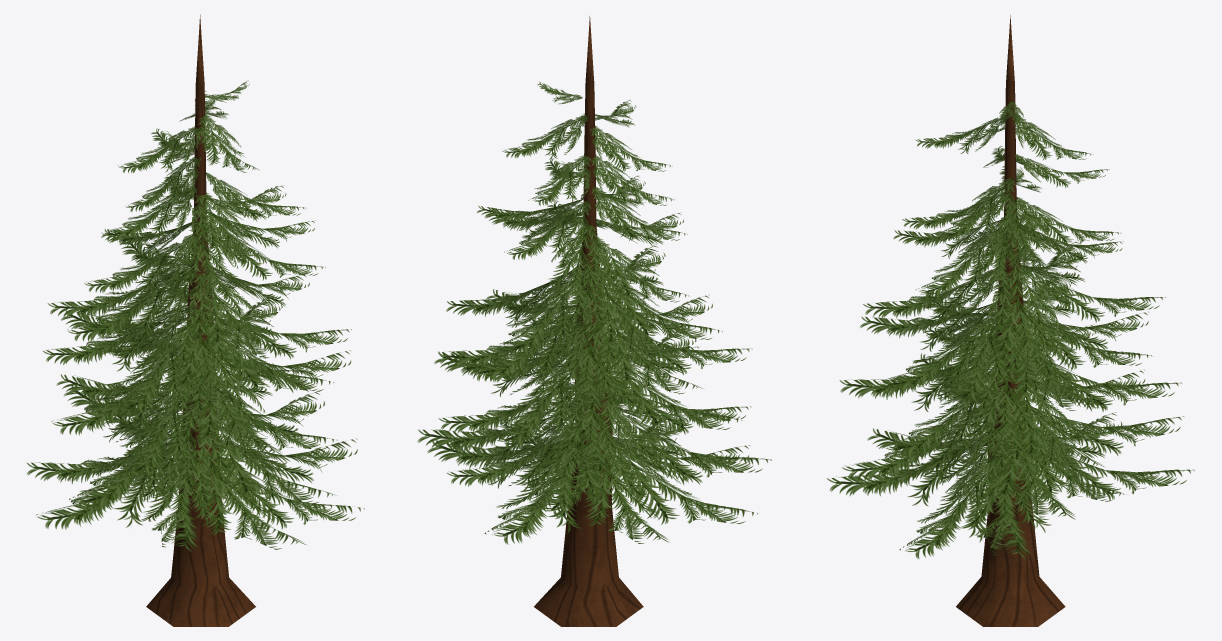
File: fir01.glb
3 renders of one model, left to right at view 1: azimuth 30°, elevation 25°; view 2: azimuth 150°, elevation 25°; view 3: azimuth 270°, elevation 25°, orthographic.
Parts seen in each view (by area): view 1: fir01; view 2: fir01; view 3: fir01.
Boxes of the visible parts, x1,y1,x2,y2 form: fir01: (27,14,364,626); fir01: (417,16,771,626); fir01: (827,15,1194,626).
Bounding box in the file's own units: 5.84 × 9.56 × 5.78.
Materials: 2 (2 with a texture image).
